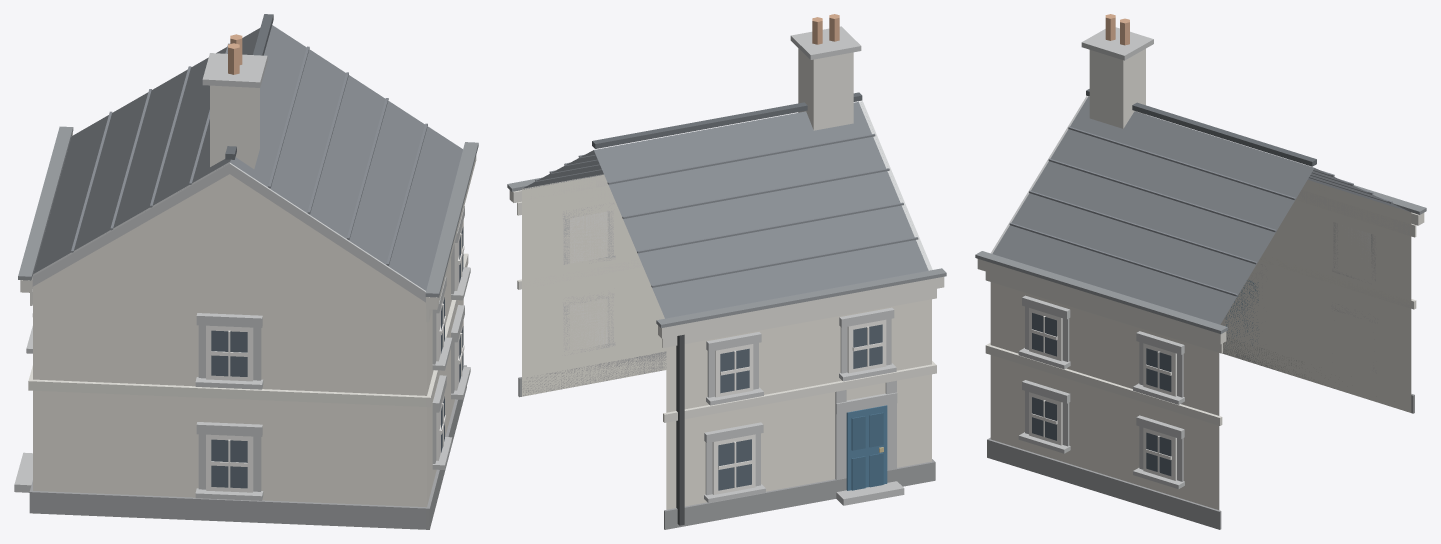
3 renders of one model, left to right at view 1: azimuth 30°, elevation 25°; view 2: azimuth 150°, elevation 25°; view 3: azimuth 270°, elevation 25°, orthographic. The views are drawn at different scales.
Parts seen in each view (by area): view 1: harl_cream, slate, stone_band, plinth, string, lead, frame, slate_lt, chim_render, window_glass_004, window_glass_005, slate_dk (+1 smaller); view 2: harl_cream, slate, stone_band, string, plinth, frame, slate_lt, chim_render, lead, slate_dk, door_blue_p, pipe (+5 smaller); view 3: harl_cream, slate, string, stone_band, plinth, chim_render, frame, slate_lt, lead, slate_dk, window_glass_009, window_glass_008 (+3 smaller).
Part boxes in pixels (bbox=[...]): harl_cream: bbox=[33, 174, 463, 507]; slate: bbox=[33, 25, 462, 290]; stone_band: bbox=[14, 53, 470, 500]; plinth: bbox=[29, 365, 466, 529]; string: bbox=[20, 133, 476, 407]; lead: bbox=[18, 126, 478, 297]; frame: bbox=[32, 226, 464, 492]; slate_lt: bbox=[71, 43, 427, 265]; chim_render: bbox=[210, 85, 259, 168]; window_glass_004: bbox=[211, 439, 247, 488]; window_glass_005: bbox=[211, 330, 247, 376]; slate_dk: bbox=[225, 14, 273, 159]; harl_cream: bbox=[522, 174, 931, 509]; slate: bbox=[523, 102, 928, 318]; stone_band: bbox=[563, 26, 932, 505]; string: bbox=[509, 176, 944, 422]; plinth: bbox=[518, 351, 935, 529]; frame: bbox=[570, 211, 886, 494]; slate_lt: bbox=[535, 133, 918, 287]; chim_render: bbox=[798, 48, 853, 130]; lead: bbox=[507, 174, 946, 327]; slate_dk: bbox=[592, 92, 862, 148]; door_blue_p: bbox=[851, 412, 883, 490]; pipe: bbox=[676, 334, 684, 525]; harl_cream: bbox=[990, 180, 1411, 509]; slate: bbox=[992, 96, 1409, 324]; string: bbox=[977, 185, 1424, 425]; stone_band: bbox=[990, 27, 1377, 489]; plinth: bbox=[987, 337, 1414, 529]; chim_render: bbox=[1089, 48, 1145, 128]; frame: bbox=[1029, 225, 1372, 480]; slate_lt: bbox=[1009, 126, 1392, 296]; lead: bbox=[975, 185, 1426, 333]; slate_dk: bbox=[1086, 89, 1316, 166]; window_glass_009: bbox=[1146, 348, 1171, 391]; window_glass_008: bbox=[1146, 432, 1171, 475].
Size of the model in its own units: 10.65 by 9.72 by 10.19.
